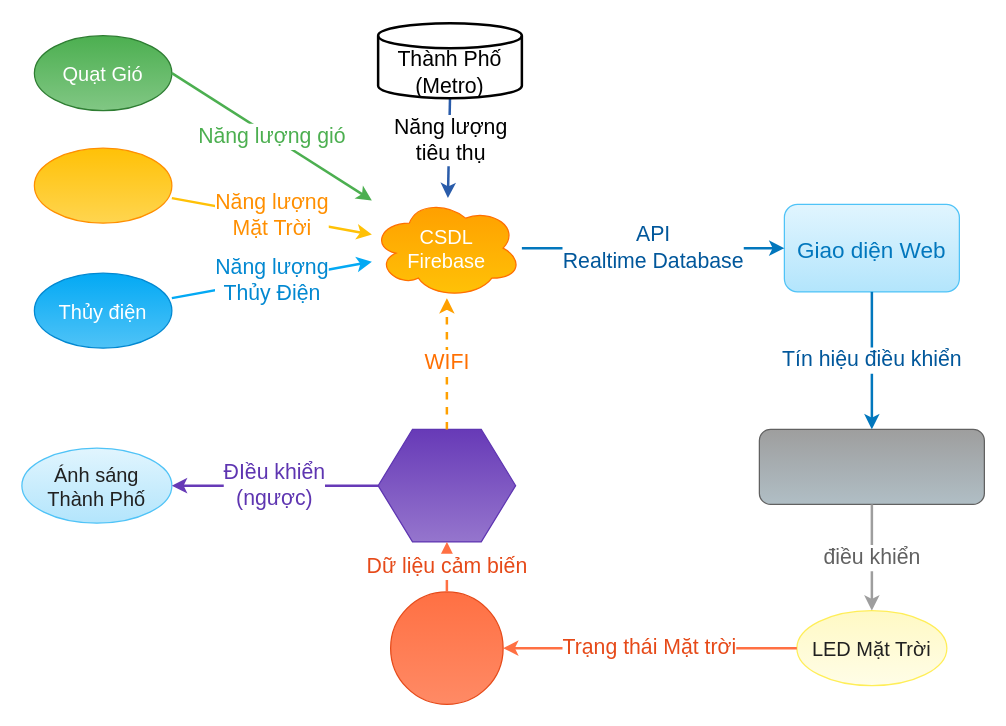
Some shapes in this 1006 by 726 pixel diagram are drawn without their labels. The centre of each missing label's shape, as x and y in pixels:
"Cảm biến Ánh sáng" belongs at (x=446, y=647).
"ESP8266" belongs at (x=446, y=485).
"Pin Mặt Trời" belongs at (x=102, y=185).
"Điều khiển ngày đêm" belongs at (x=871, y=466).
